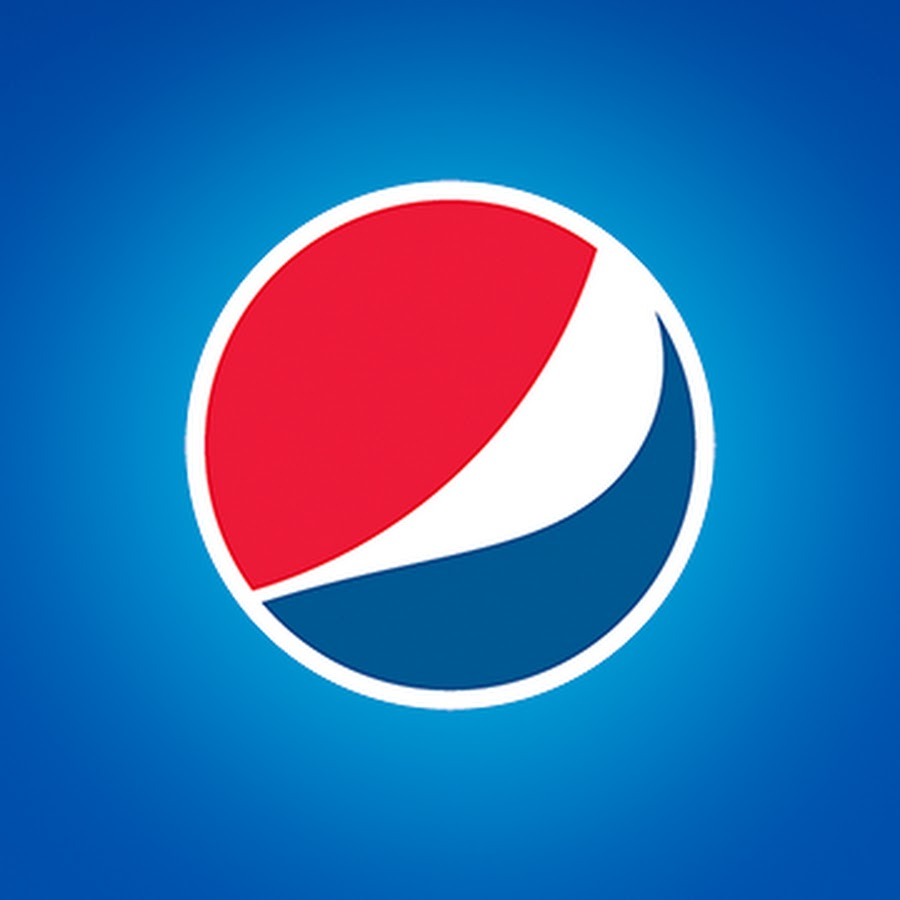pepsi: (179, 170, 721, 709), (197, 150, 691, 703), (197, 150, 691, 690), (197, 187, 704, 703), (197, 187, 691, 703), (442, 150, 691, 690)
